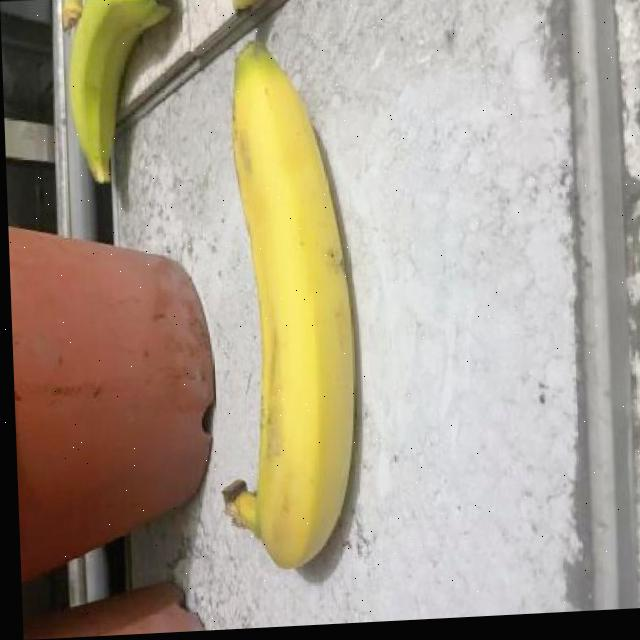banana: (200, 33, 370, 589), (50, 0, 184, 203)
